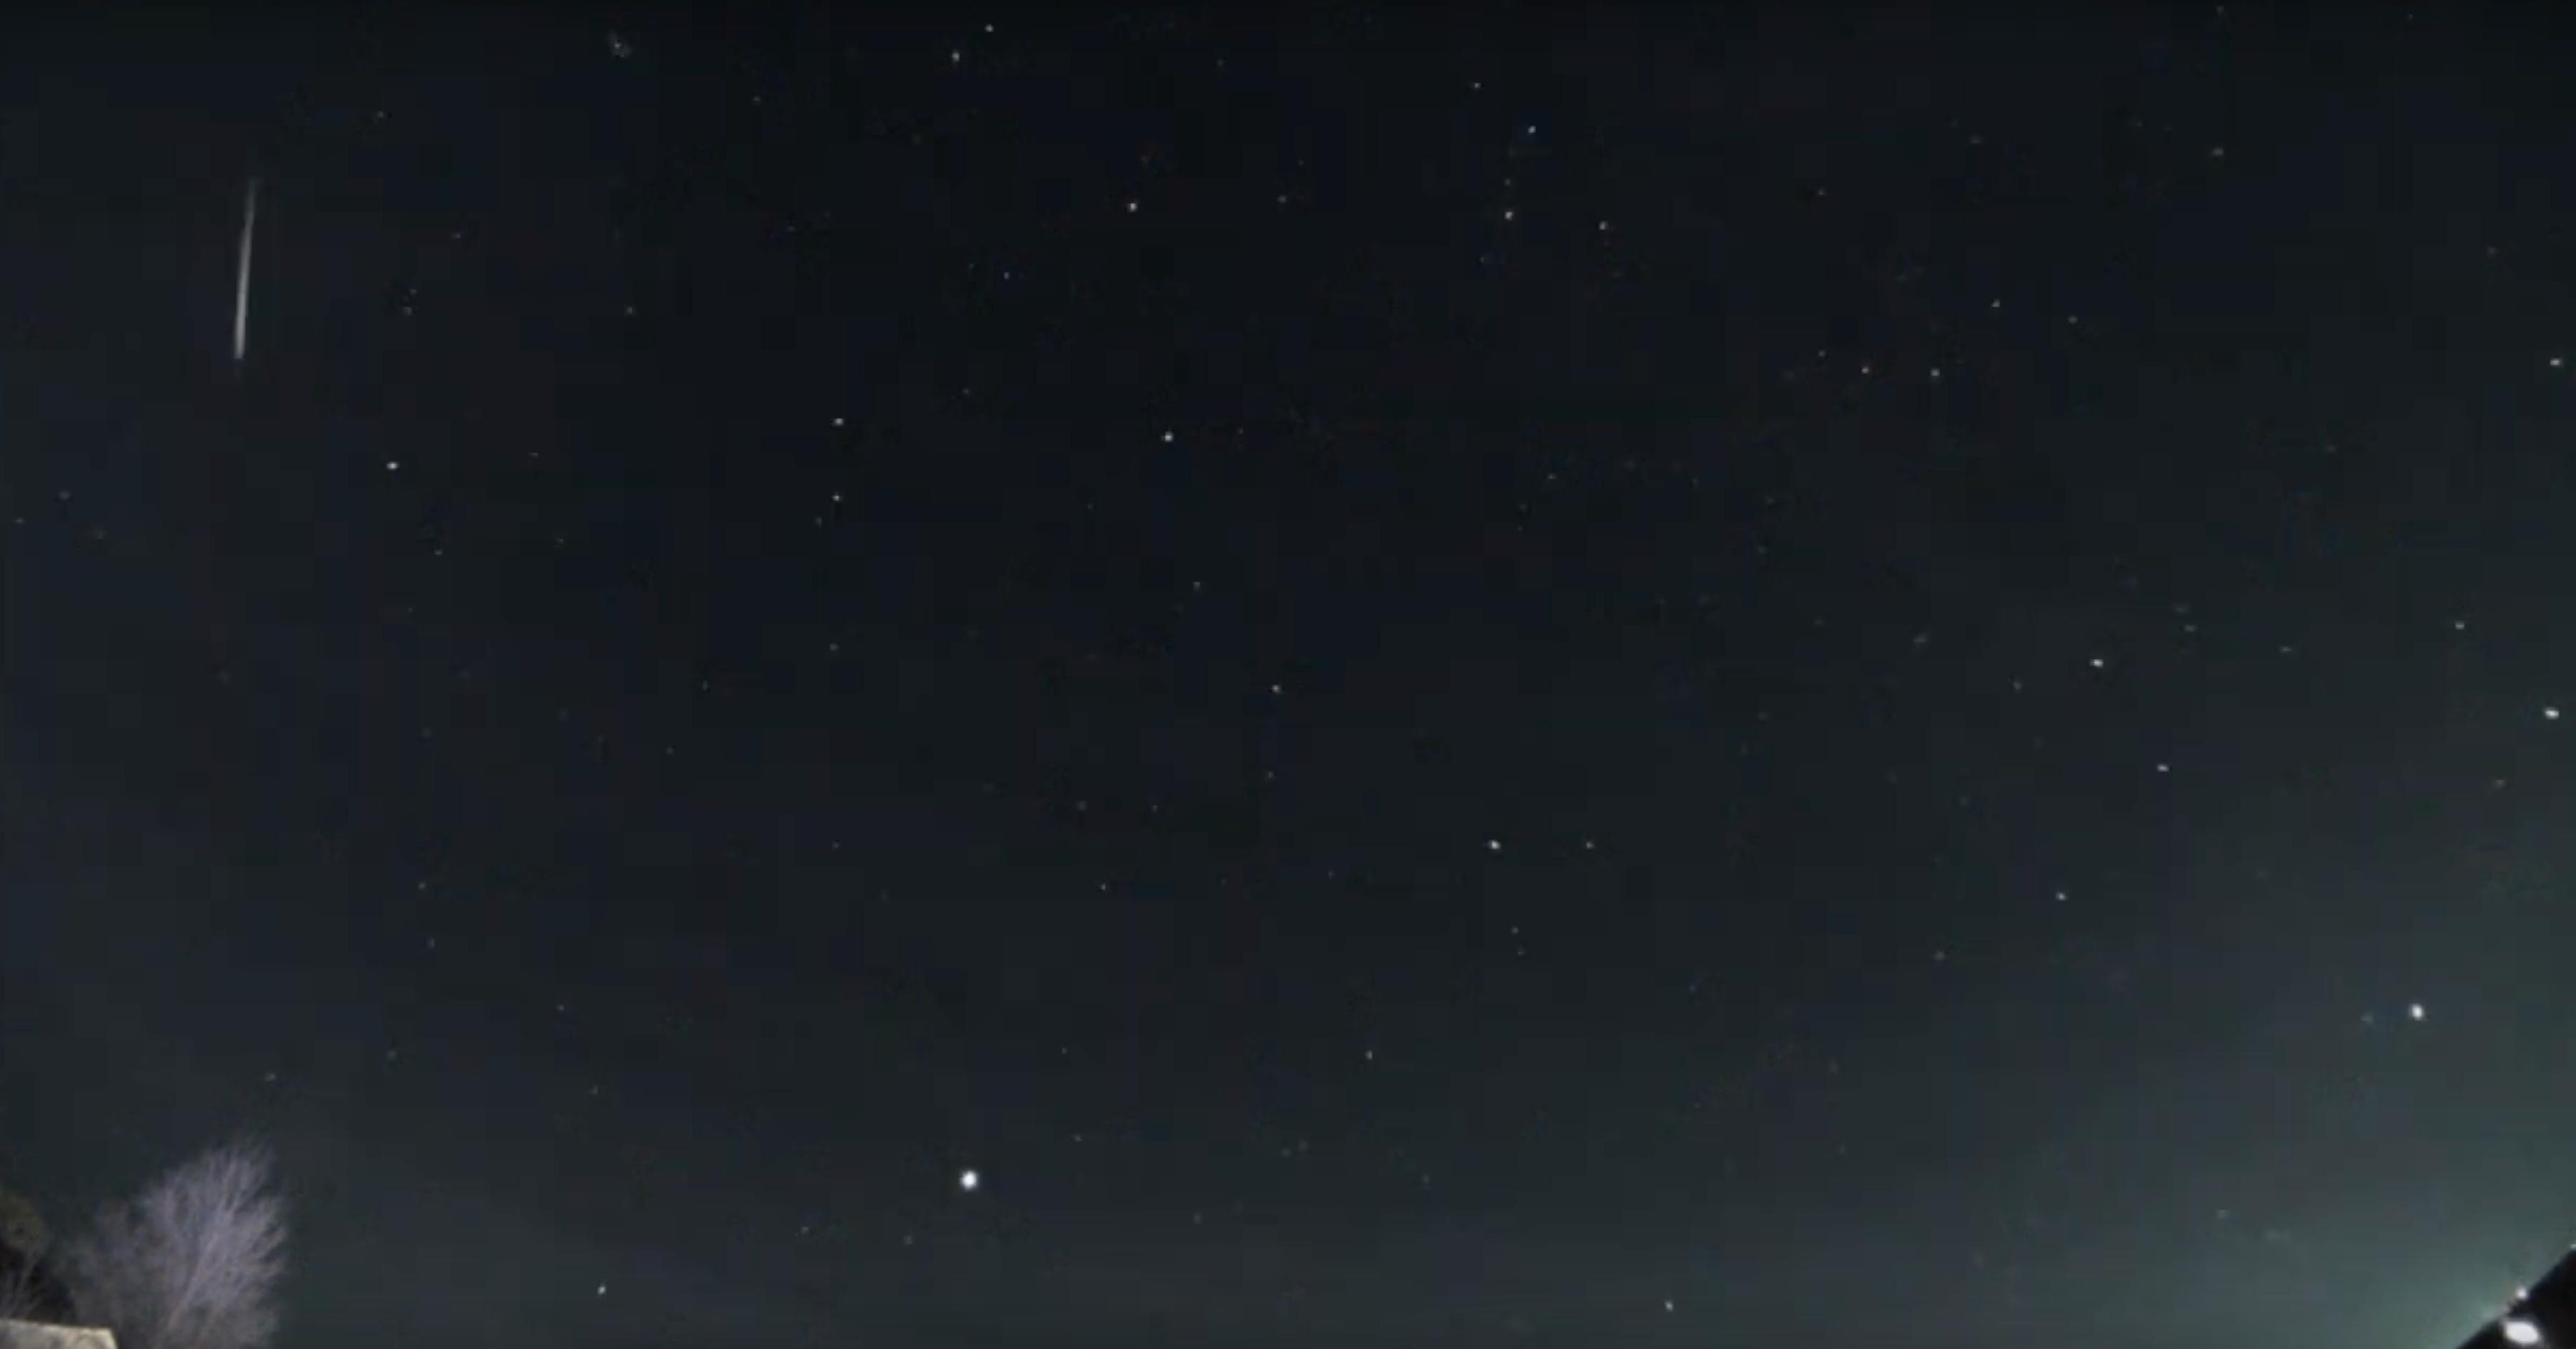Plane: (574, 17, 656, 63)
meteorite: (186, 136, 293, 392)
